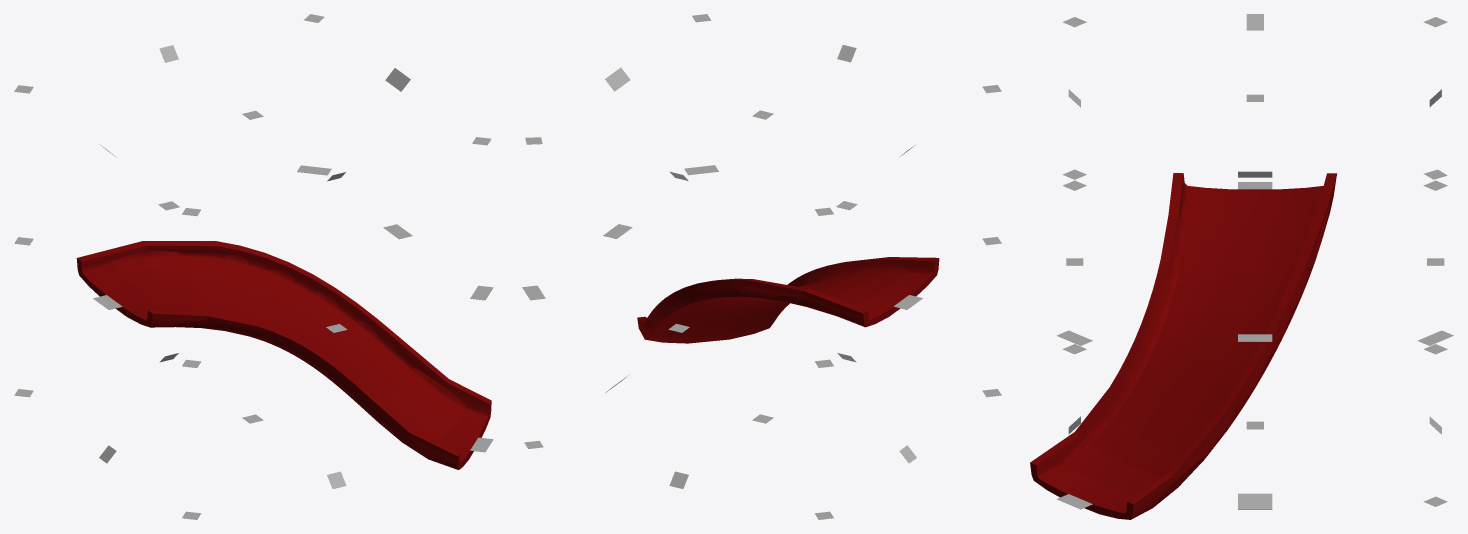
Rendered from New45RightDown.fbx.
3 renders of one model, left to right at view 1: azimuth 30°, elevation 25°; view 2: azimuth 150°, elevation 25°; view 3: azimuth 270°, elevation 25°, orthographic. The views are drawn at different scales.
Visible parts, largest first — view 1: pPipe3; view 2: pPipe3; view 3: pPipe3, pasted__pCube21.
Boxes of the visible parts, x1=… form: pPipe3: x1=76, y1=241, x2=491, y2=469; pPipe3: x1=637, y1=257, x2=939, y2=343; pPipe3: x1=1030, y1=173, x2=1337, y2=519; pasted__pCube21: x1=1238, y1=493, x2=1272, y2=509.
Bounding box in the file's own units: 24.39 × 21.86 × 24.67.
